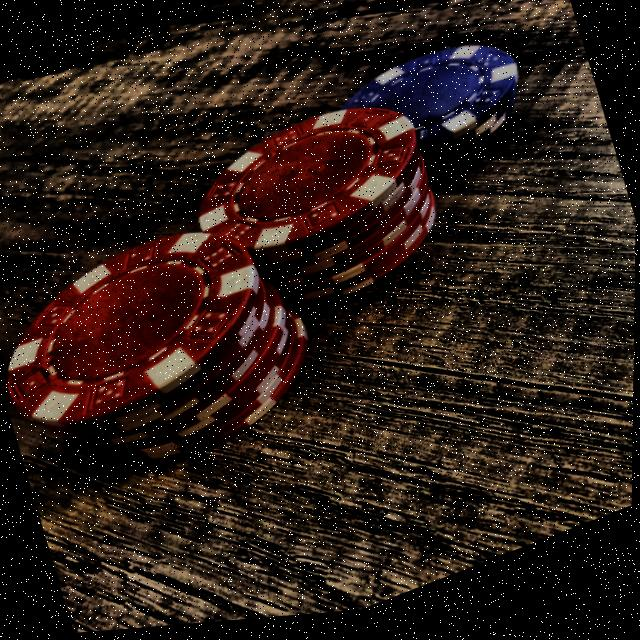Chip: (0, 195, 329, 517), (181, 84, 458, 345), (328, 29, 536, 202)
